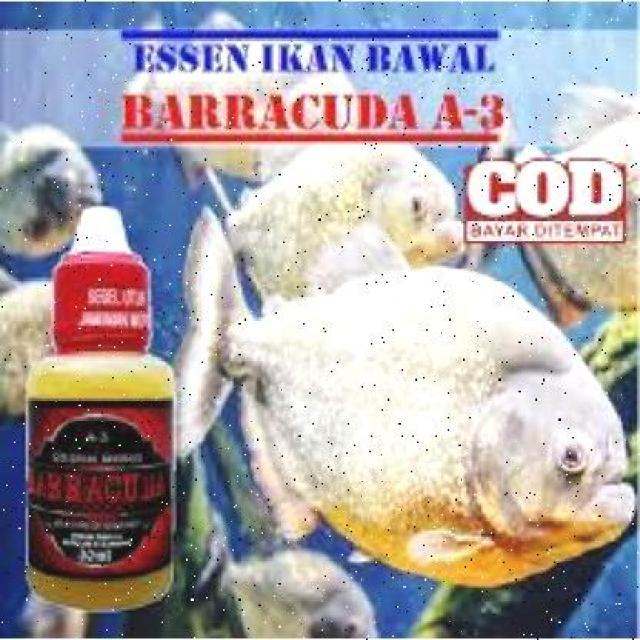ikan-pacu: (170, 253, 630, 578)
